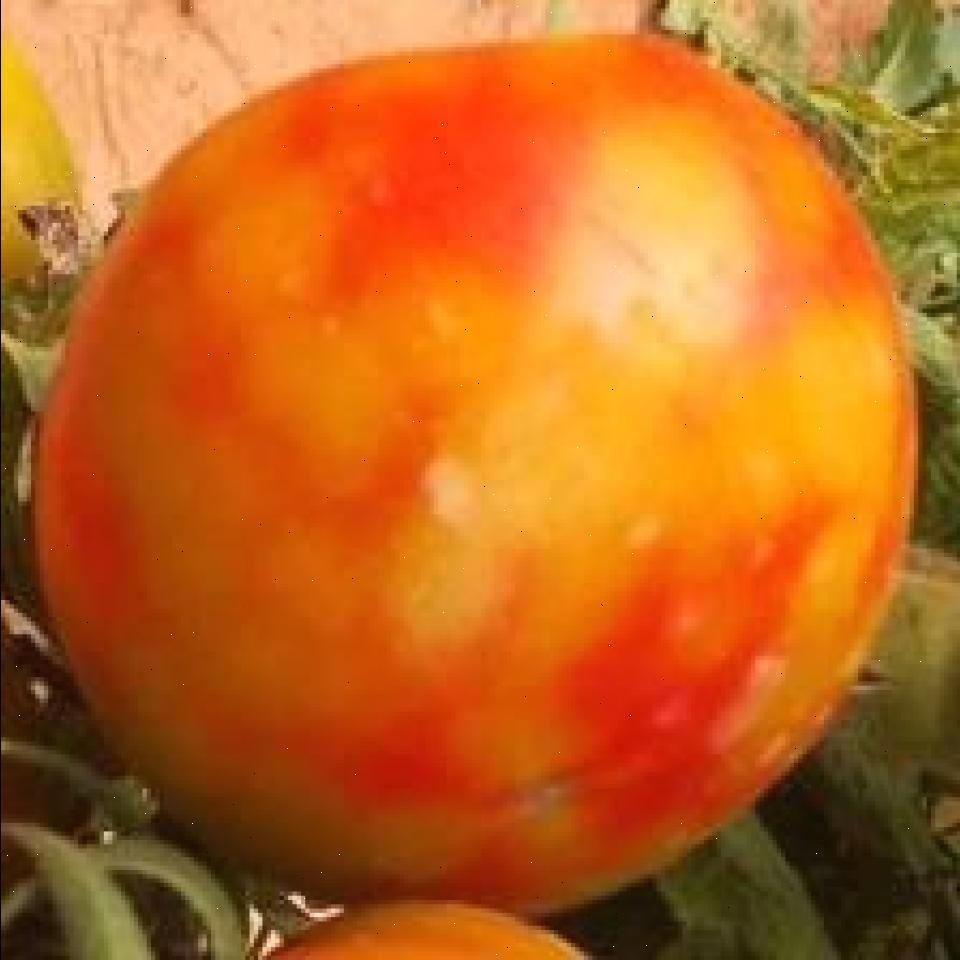Spotted wilt Virus: (27, 29, 919, 923)
